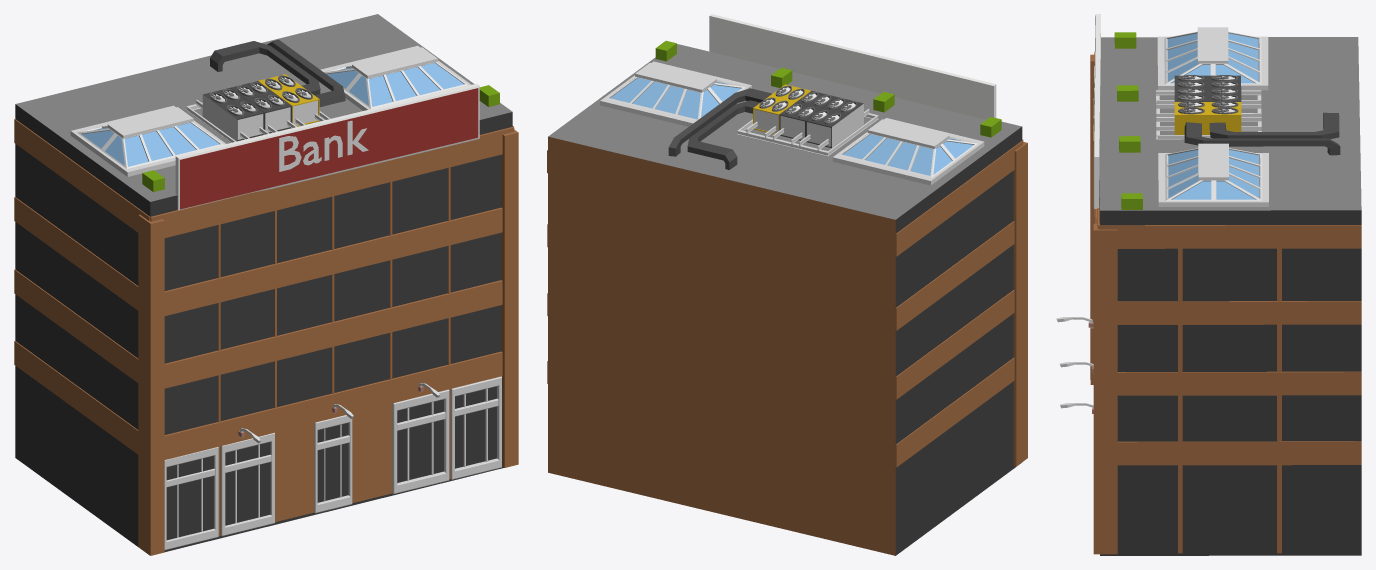
Rendered from bank.glb.
3 views of the same model, side by side, from view 1: azimuth 30°, elevation 25°; view 2: azimuth 150°, elevation 25°; view 3: azimuth 270°, elevation 25° (orthographic). The views are drawn at different scales.
Visible parts, largest first — view 1: Ventilation_1.001; view 2: Ventilation_1.001; view 3: Ventilation_1.001.
Boxes of the visible parts, x1=… form: Ventilation_1.001: x1=14, y1=14, x2=518, y2=555; Ventilation_1.001: x1=547, y1=14, x2=1027, y2=555; Ventilation_1.001: x1=1056, y1=14, x2=1361, y2=555.
Size of the model in its own units: 502 by 508 by 368.
1 material, 1 textured.
